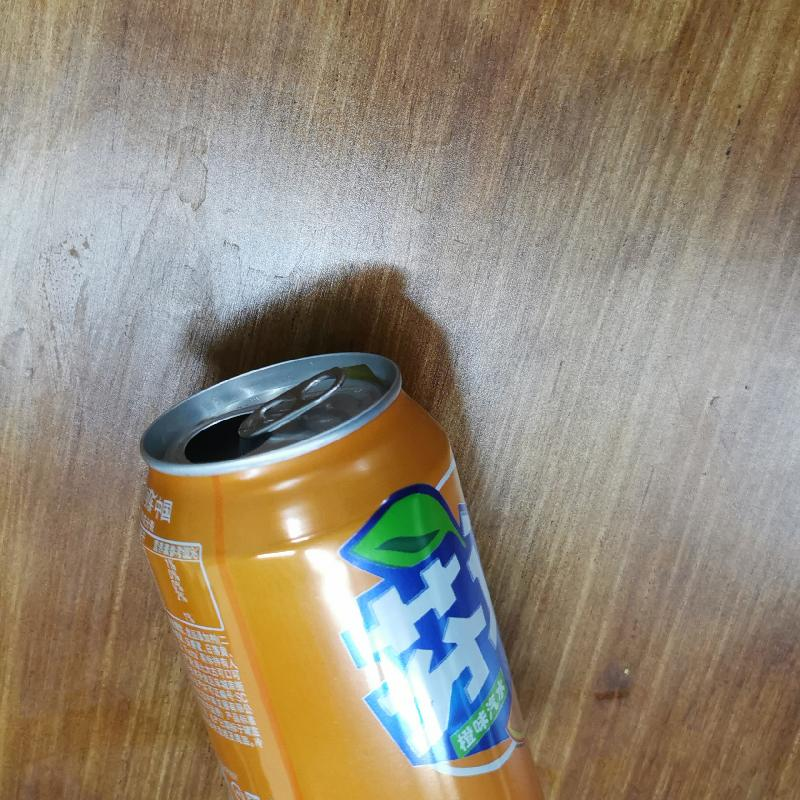cans: (137, 347, 549, 800)
